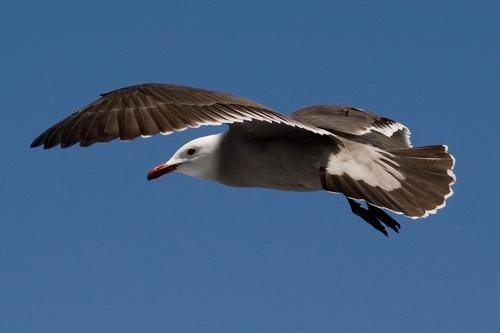bird: (31, 82, 457, 241)
